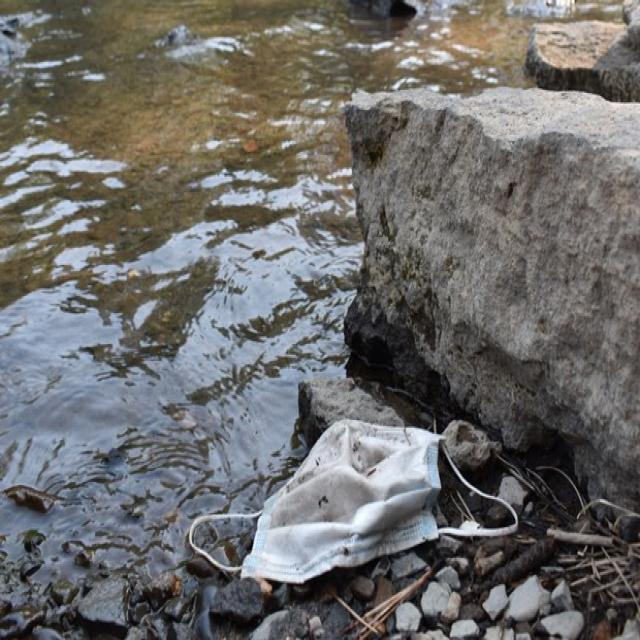non-organic waste: (187, 419, 518, 581)
